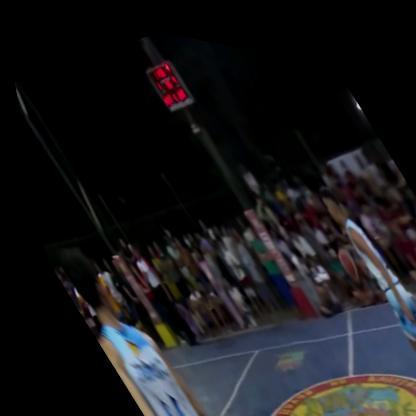basketball: (319, 222, 364, 280)
